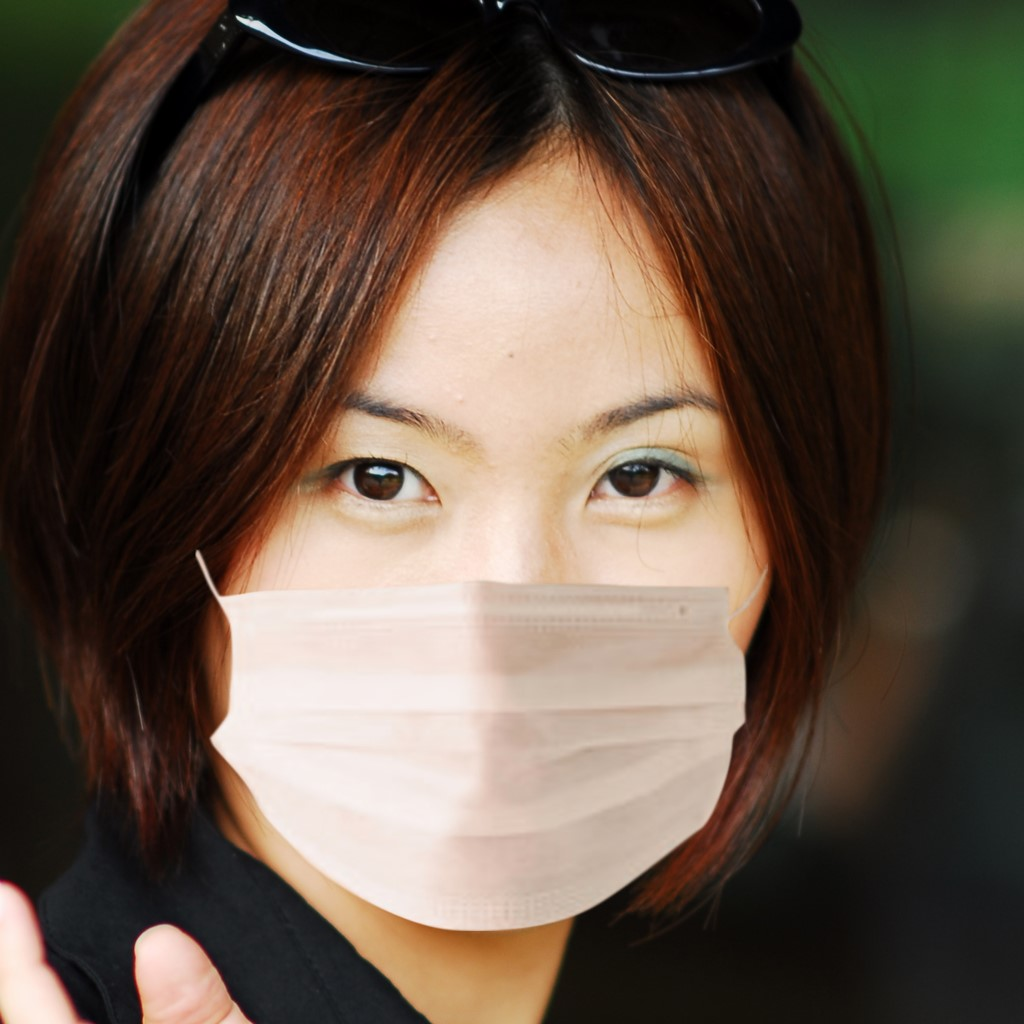con_mascara: (166, 137, 788, 931)
